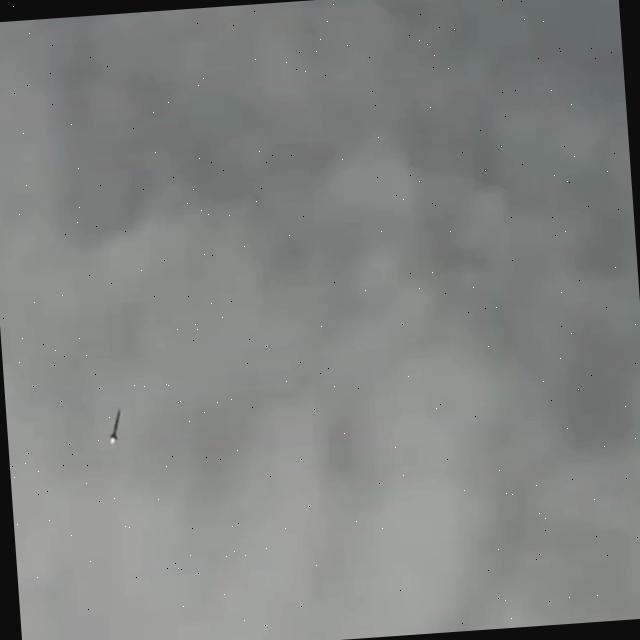rocket: (106, 408, 120, 445)
